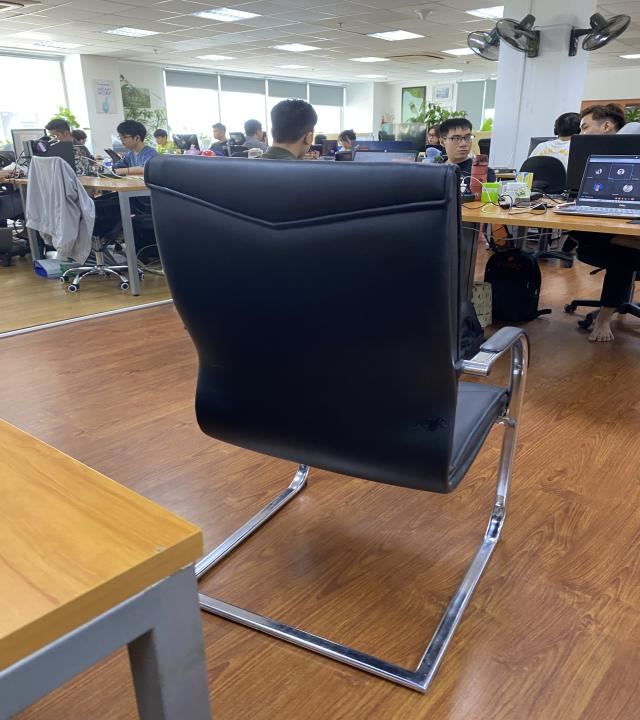SS_03: (139, 151, 532, 696)
